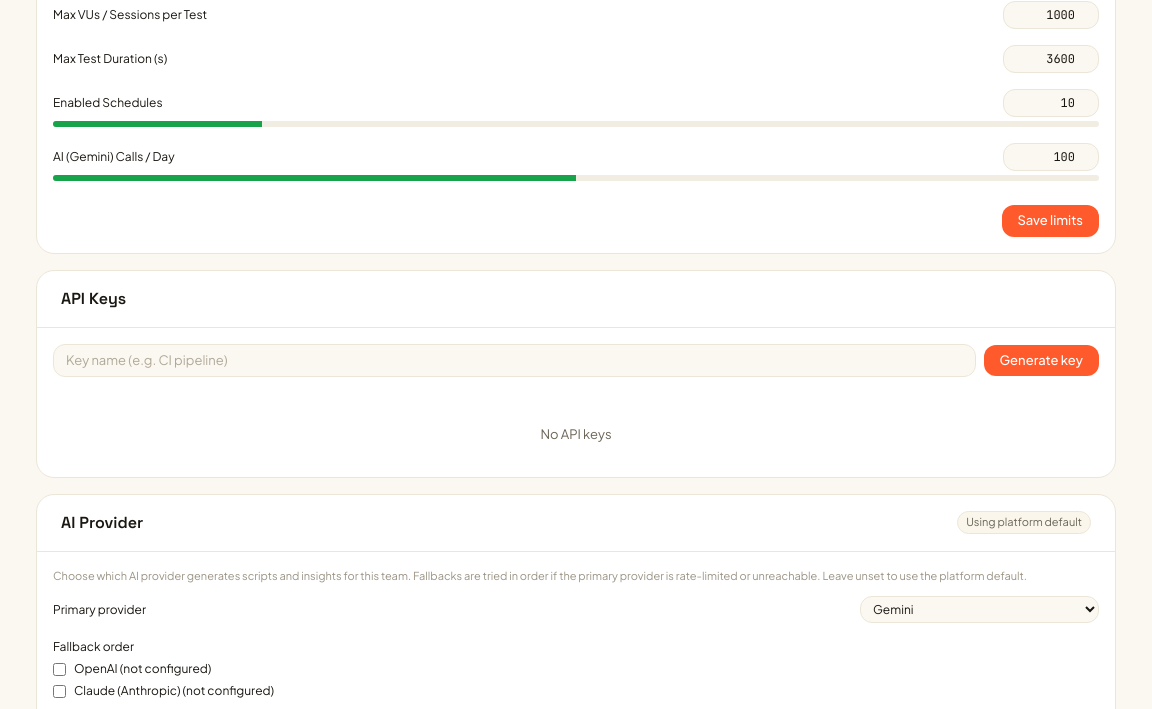
Test: TeamPage — API Keys › generates a new key, shows the raw key banner, and reloads the list
(page scrolled)
Type "CI pipeline" into the field with placeholder "Key name (e.g. CI pipeline)". click: (514, 360)
box: top-left (53, 344), bottom-right (976, 377)
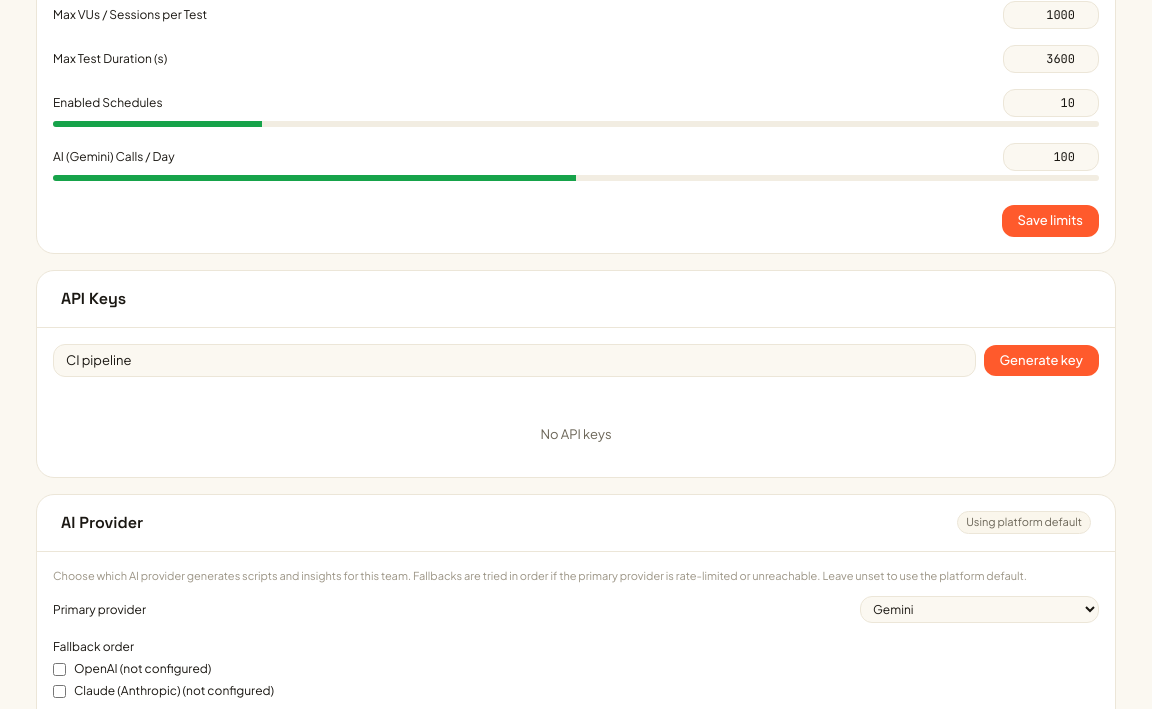
Click the button "Generate key". click: (1041, 360)
box: top-left (984, 344), bottom-right (1099, 376)
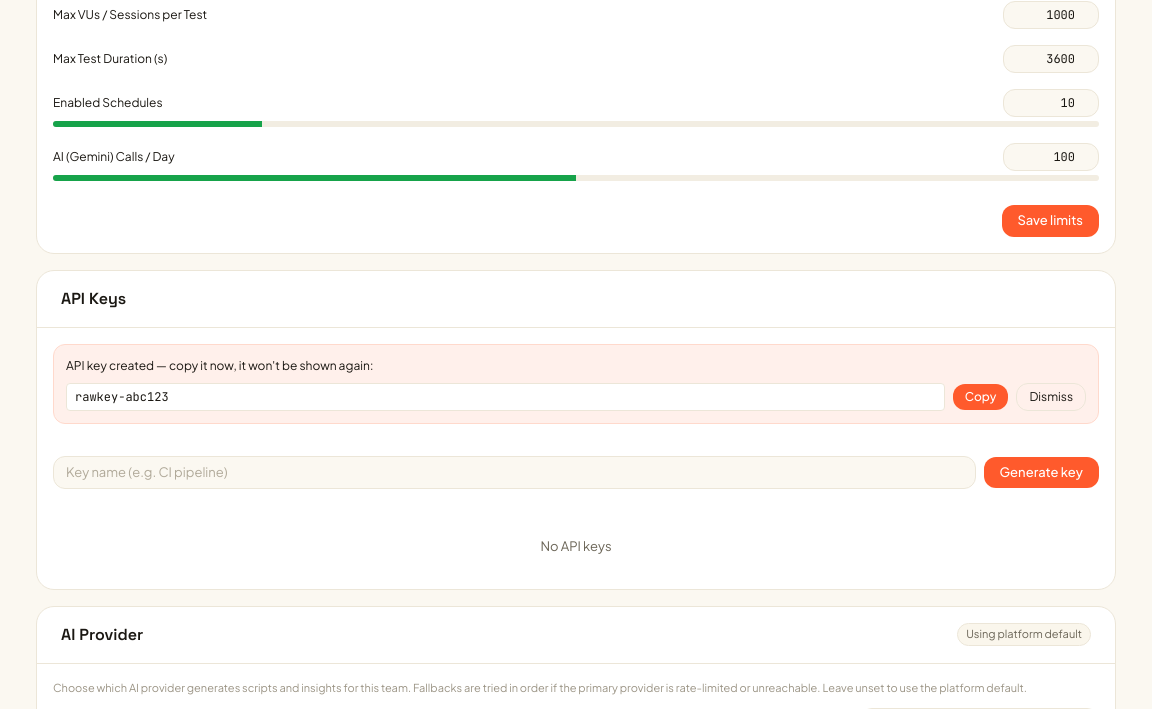
Result: the text "rawkey-abc123" is shown at top-left (66, 382), bottom-right (945, 410)
Result: the text "API key created — copy it now, it won't be shown again:" is shown at top-left (66, 358), bottom-right (373, 372)
